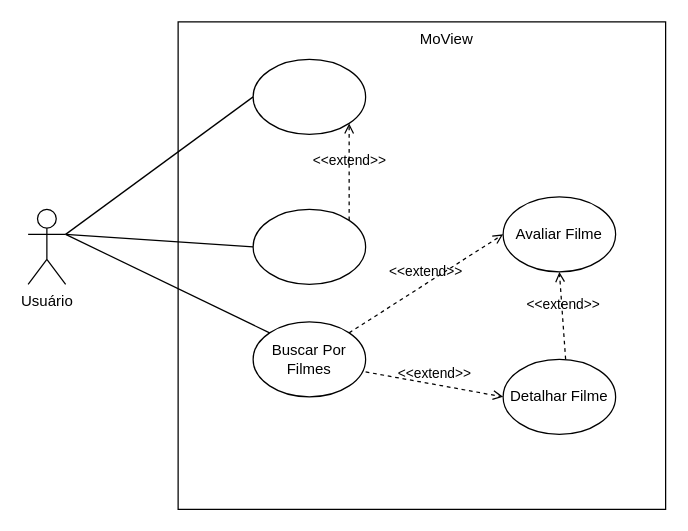
Image size: 688x531. Some labels were removed from this diagram. Each missing label, with the centre of its shape:
Cadastrar usuário: pixel 309 246
Login Usuário: pixel 309 96
